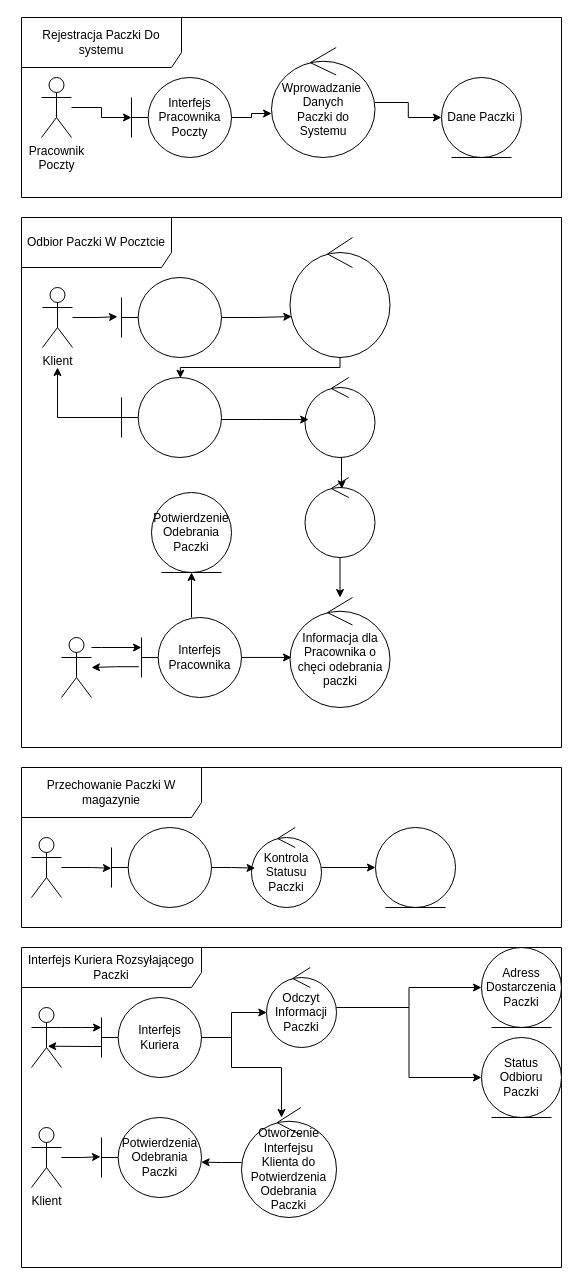
Some shapes in this 579 by 1285 pixel diagram are drawn without their labels. Each missing label, with the centre of its shape:
Actor: point (76, 667)
Interfejs Kilenta: point (171, 317)
Interfejs Magazynera: point (161, 867)
Kurier: point (46, 1037)
Lista Paczek do odbioru: point (171, 417)
Magazyner: point (46, 867)
Odebranie Paczki: point (339, 517)
uwierzytelnienie danych klienta: point (339, 297)
Wybor Czynnosci co do Paczek: point (339, 417)
Zmiana Statusu Paczki: point (415, 867)
